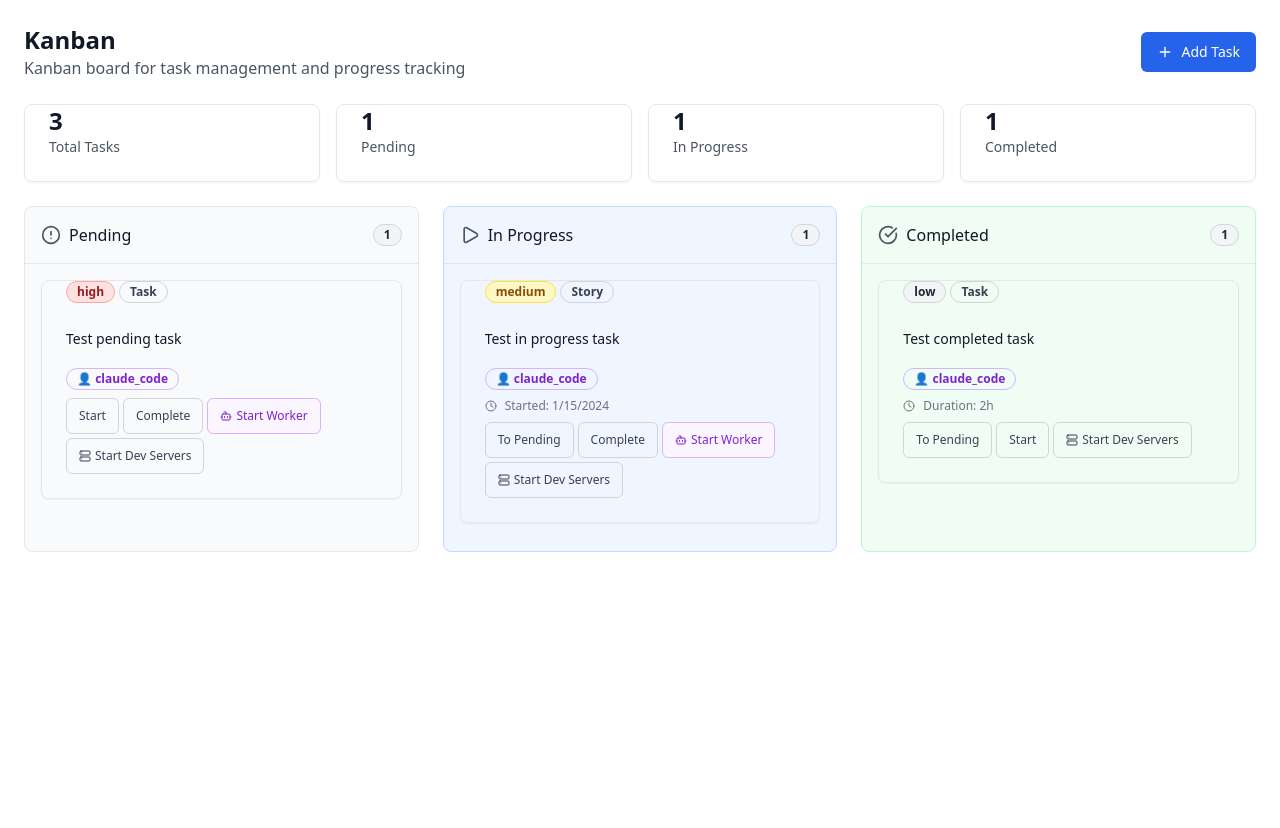
Test: TaskBoard › should show task creation form when Add Task button is clicked
The width and height of the screenshot is (1280, 828).
expect the heading "Kanban" is shown: met, box [24,23,116,56]
Click the button "Add Task" at (1199, 52), box [1142,32,1256,72]
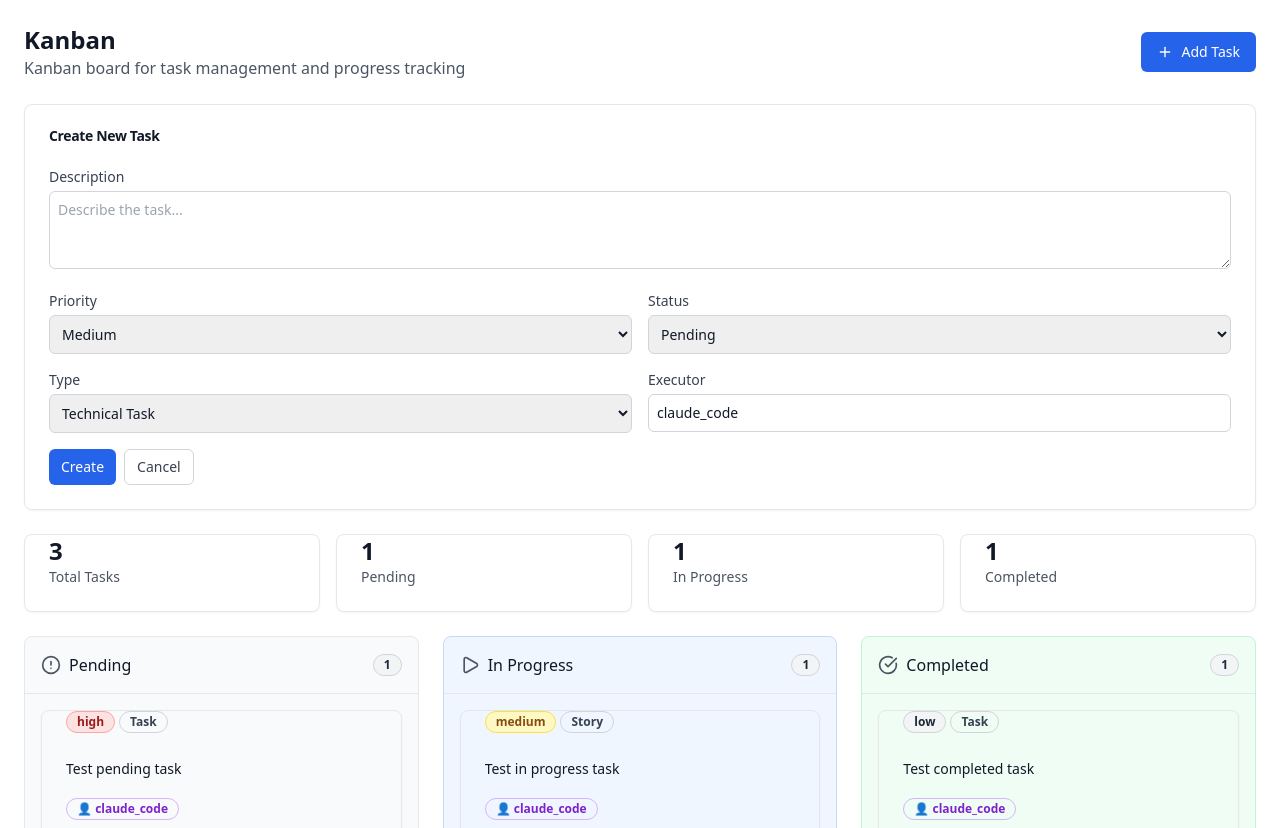
expect the heading "Create New Task" is shown: met, box [49,126,160,145]
expect the text box with placeholder "Describe the task..." is shown: met, box [49,191,1231,269]
